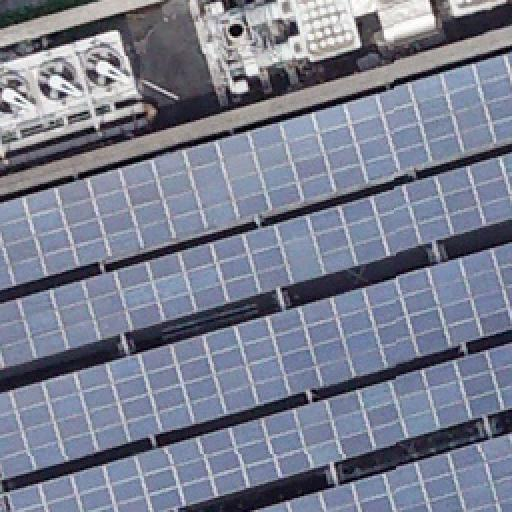solar-panel: (0, 54, 512, 294), (0, 245, 512, 483), (0, 154, 512, 370), (6, 344, 512, 512), (249, 432, 511, 512), (0, 497, 4, 511)
